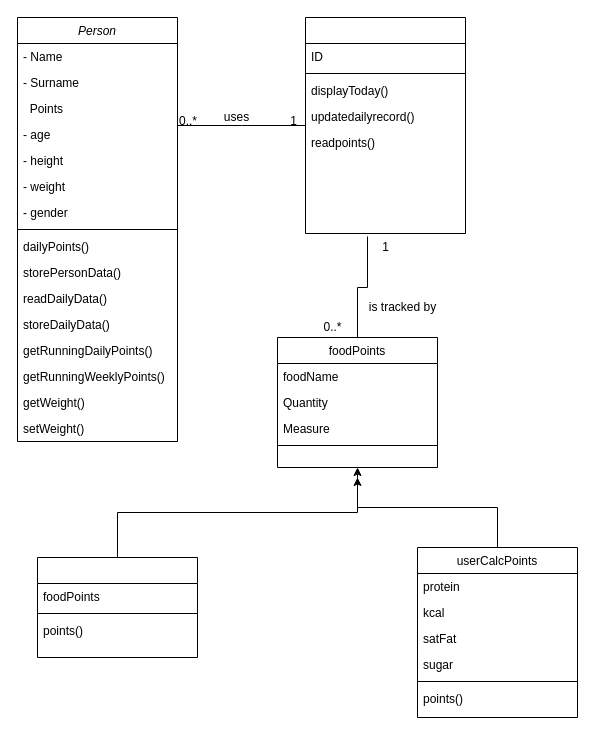
Some shapes in this 595 by 735 pixel diagram are drawn without their labels. The box of each missing label's shape, as (x1, y1, x2, y2) in pixels:
predefinedPoints: (36, 556, 198, 658)
Tracker: (304, 16, 466, 234)
